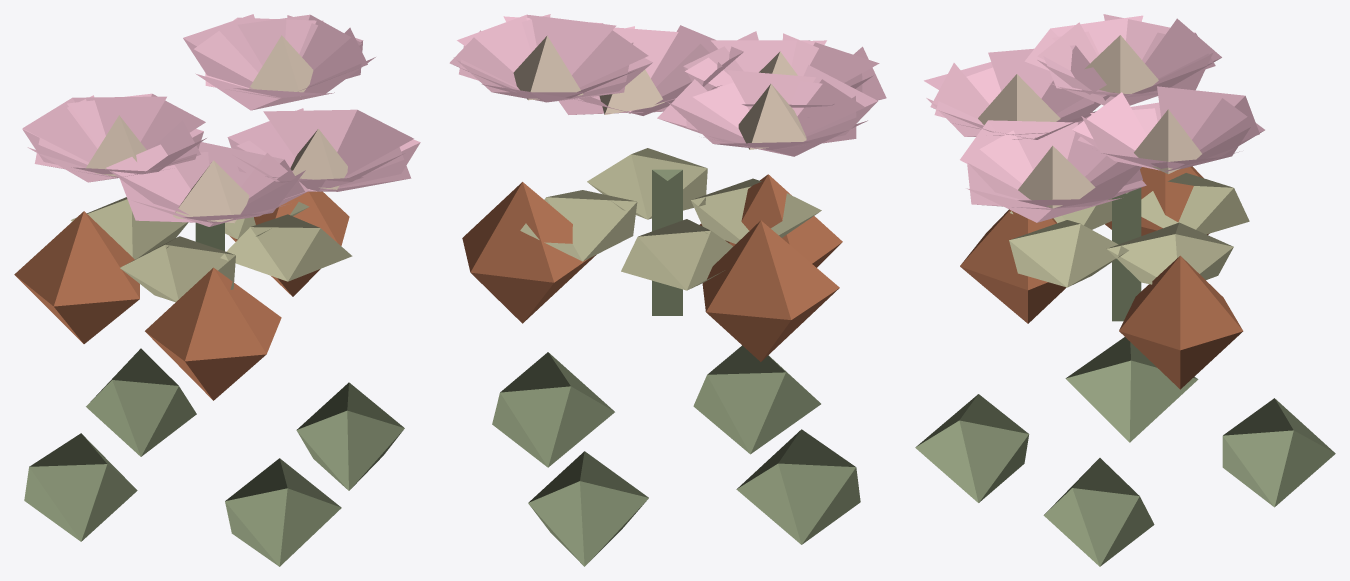
The model's file is shui.lian__winter.glb.
The picture shows the model from 3 angles, left to right: view 1: azimuth 30°, elevation 25°; view 2: azimuth 150°, elevation 25°; view 3: azimuth 270°, elevation 25°; orthographic projection. The views are drawn at different scales.
Visible parts, largest first — view 1: shui.lian__winter; view 2: shui.lian__winter; view 3: shui.lian__winter.
Boxes of the visible parts, x1,y1,x2,y2 form: shui.lian__winter: (14,14,420,566); shui.lian__winter: (449,14,886,566); shui.lian__winter: (915,14,1335,566).
Size of the model in its own units: 1.09 by 1.27 by 1.09.
